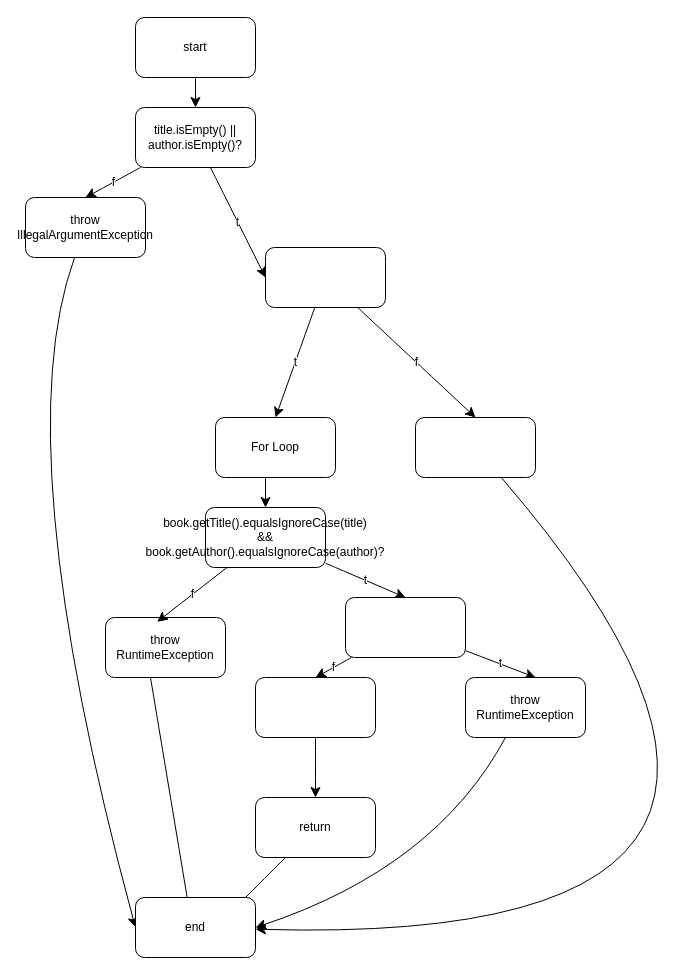
Image size: 675x975. Some labels were removed from this diagram. Each missing label, with the centre of its shape:
!book.isBorrowed()?: (x=405, y=627)
Book is found?: (x=325, y=277)
book.setBorrowed(true); print("Borrowed successfully"): (x=315, y=707)
throw Runtime Exception: (x=475, y=447)
